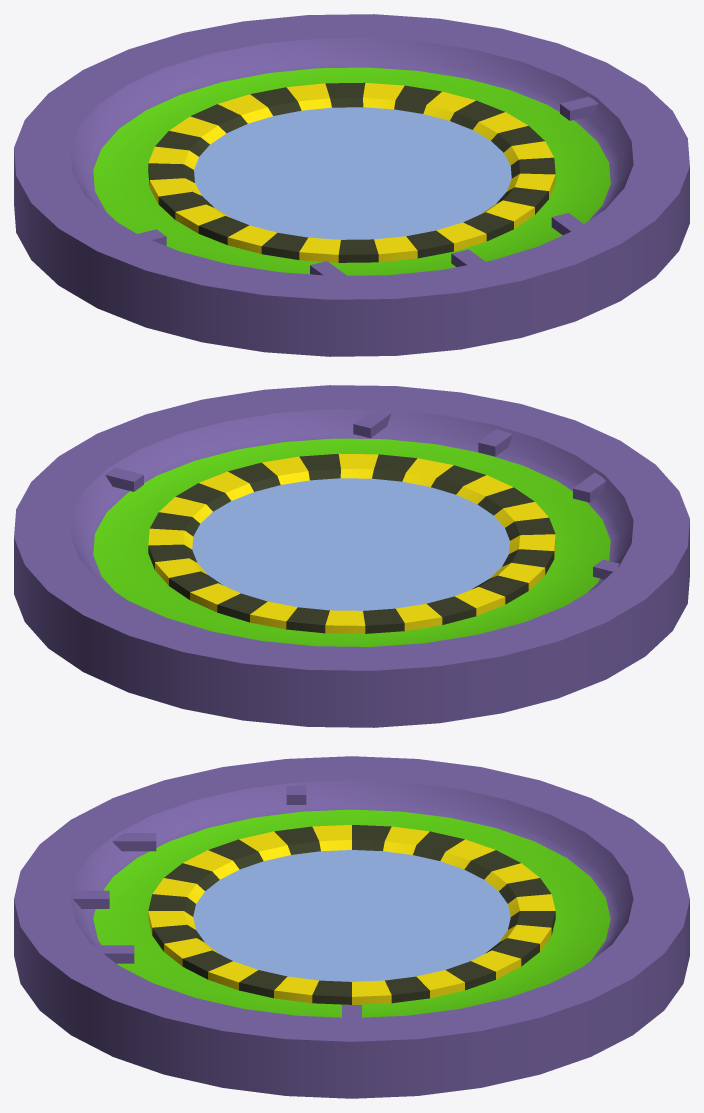
Rendered from Leserfiled.fbx.
3 renders of one model, top to bottom at view 1: azimuth 30°, elevation 25°; view 2: azimuth 150°, elevation 25°; view 3: azimuth 270°, elevation 25°, orthographic.
Visible parts, largest first — view 1: Circle, Cube; view 2: Circle, Cube.004, Cube, Cube.002, Cube.003; view 3: Circle, Cube.003, Cube.002, Cube.004.
Part boxes in pixels (x1,y1,x2,y2): Circle: (14, 14, 689, 356); Cube: (560, 96, 598, 120); Circle: (14, 385, 689, 727); Cube.004: (353, 412, 391, 438); Cube: (105, 467, 143, 491); Cube.002: (478, 429, 512, 456); Cube.003: (573, 472, 605, 502); Circle: (14, 756, 689, 1098); Cube.003: (112, 833, 156, 851); Cube.002: (73, 890, 109, 908); Cube.004: (93, 945, 134, 963).
Size of the model in its own units: 2147 by 199 by 2147.
